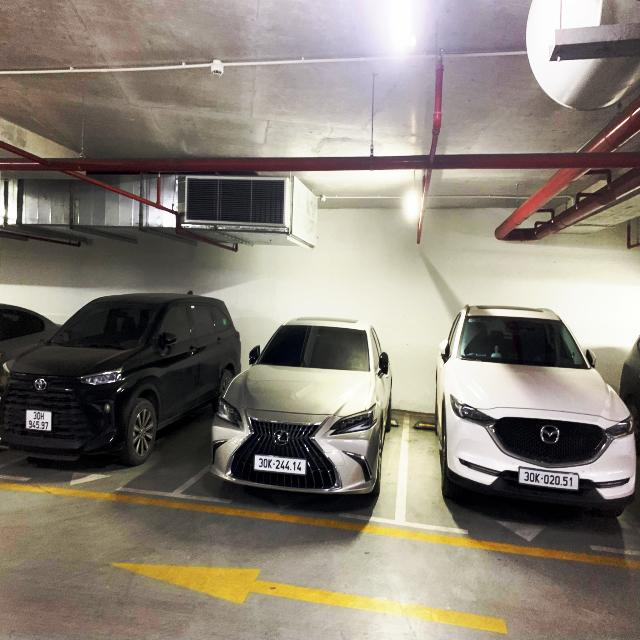license_plate: (518, 467, 581, 493), (254, 455, 308, 477), (26, 410, 53, 432)
